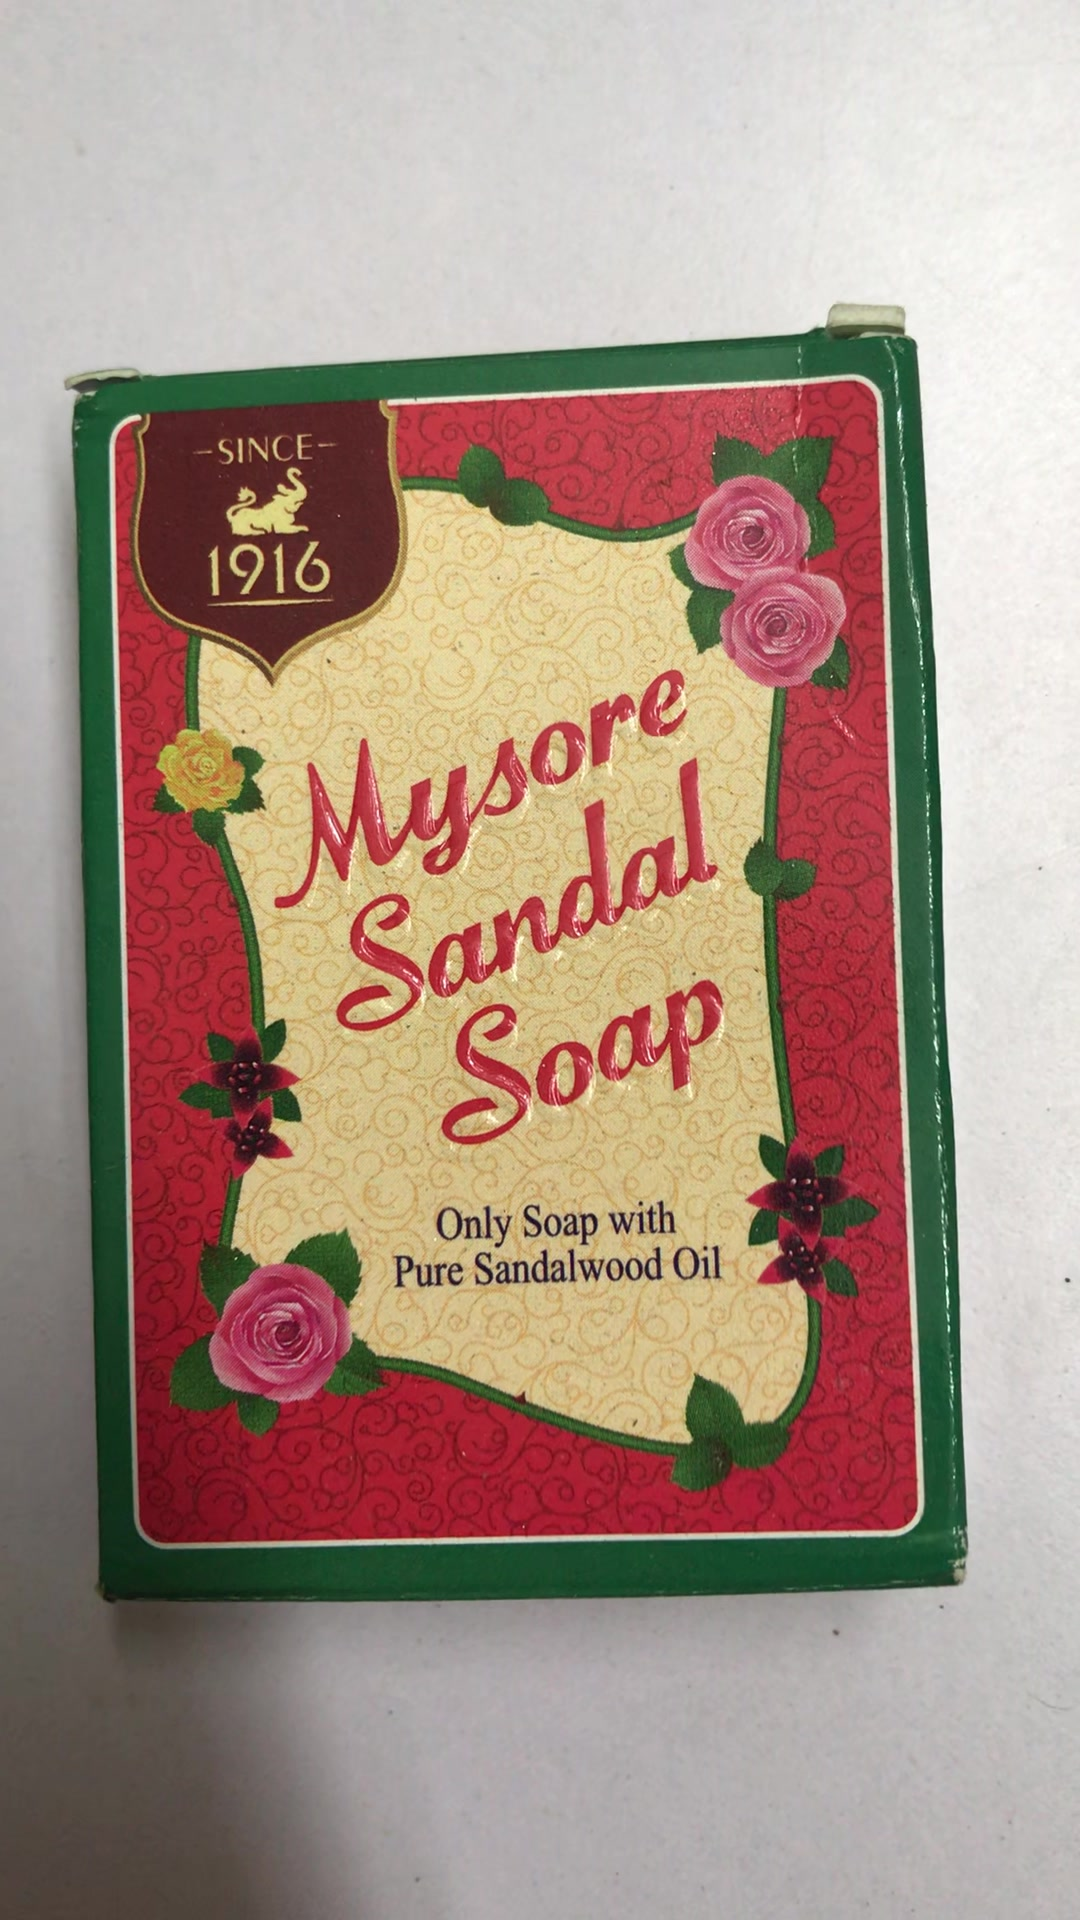mysore sandal soap: (74, 340, 976, 1594)
